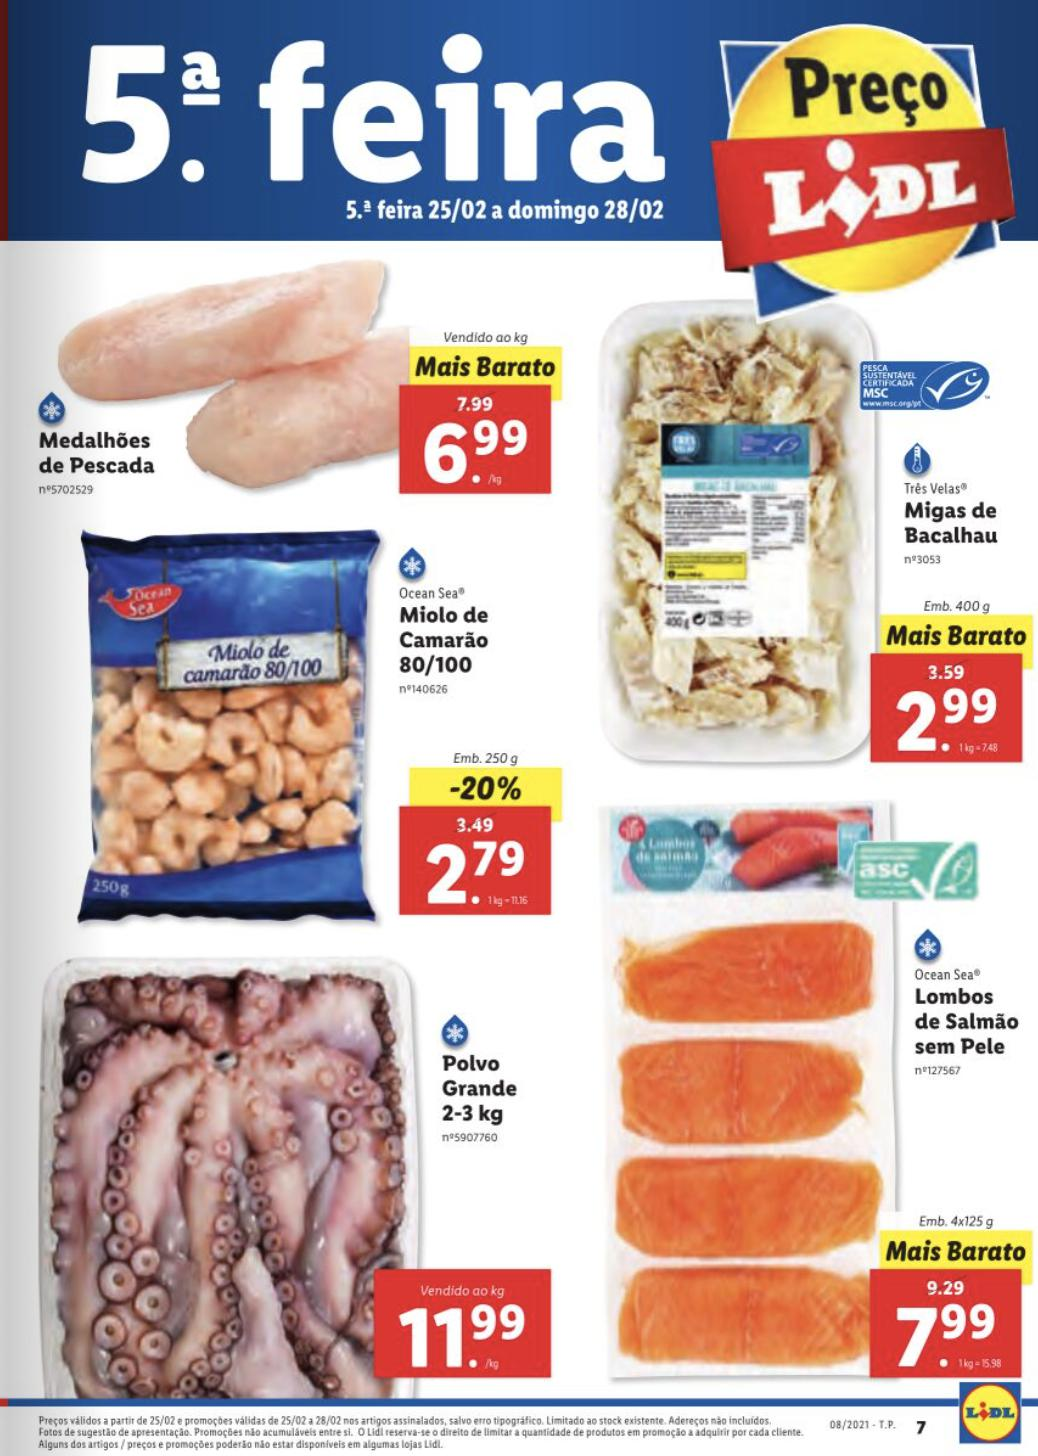name: (900, 982, 1031, 1059), (388, 597, 497, 682), (17, 425, 166, 484), (428, 1047, 526, 1131), (902, 500, 1008, 547)
price: (400, 377, 550, 495), (886, 672, 1017, 768), (887, 1298, 1021, 1384), (393, 1302, 531, 1378)
product: (559, 785, 1038, 1400), (22, 944, 562, 1399), (48, 511, 582, 941), (599, 276, 1038, 774), (15, 254, 584, 511)
